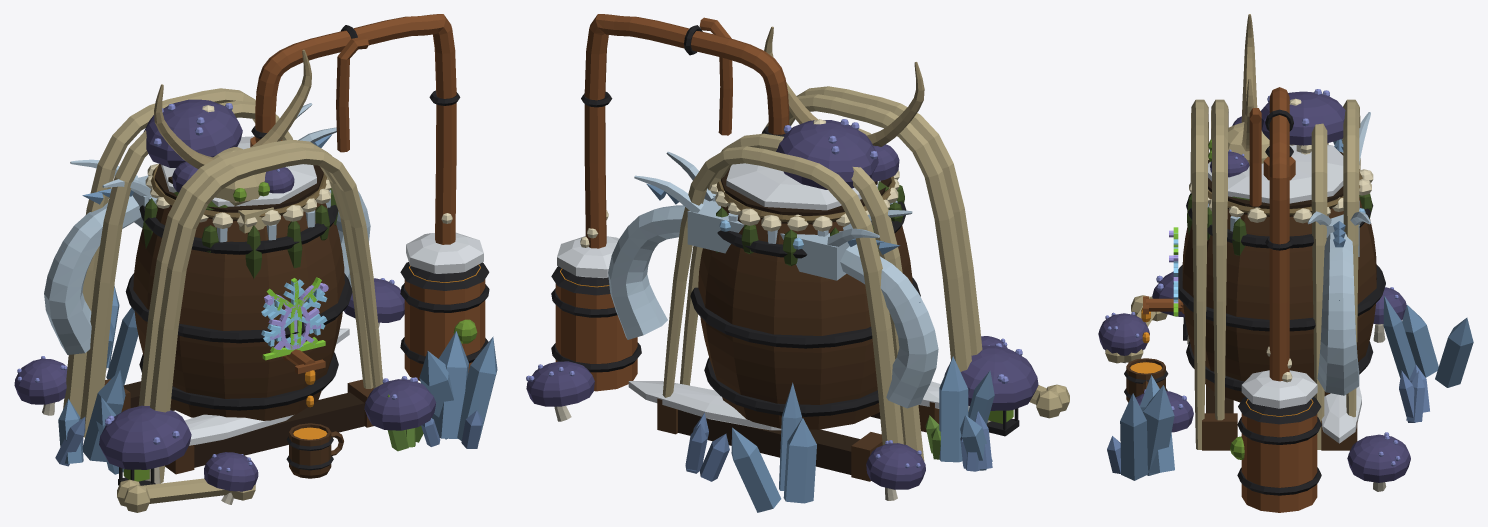
File: VFP_FermentBarrel.obj
The picture shows the model from 3 angles, left to right: view 1: azimuth 30°, elevation 25°; view 2: azimuth 150°, elevation 25°; view 3: azimuth 270°, elevation 25°; orthographic projection. The views are drawn at different scales.
Parts seen in each view (by area): view 1: S2_Bones, B_Barrel, S3_Caps, B_Pipes, S4_Crystals, S4_Dragons, B_Hoops, S4_Frost, B_Tank, B_Cradle, B_Tank_iron, S2_Skull_antler (+15 smaller); view 2: S2_Bones, B_Barrel, S4_Dragons, S3_Caps, B_Pipes, S4_Crystals, S4_Frost, B_Hoops, B_Tank, B_Cradle, S3_Crystals, B_Tank_iron (+7 smaller); view 3: S2_Bones, B_Barrel, S3_Caps, S4_Crystals, B_Pipes, S4_Frost, S4_Dragons, B_Tank, B_Hoops, B_Tank_iron, B_Cradle_wood, S3_Crystals (+11 smaller).
Part boxes in pixels (x1,y1,x2,y2): S2_Bones: (63, 88, 382, 512); B_Barrel: (133, 203, 344, 420); S3_Caps: (14, 99, 435, 491); B_Pipes: (250, 14, 456, 244); S4_Crystals: (58, 285, 497, 474); S4_Dragons: (44, 103, 370, 354); B_Hoops: (125, 205, 352, 410); S4_Frost: (161, 136, 483, 445); B_Tank: (404, 279, 485, 380); B_Cradle: (123, 381, 364, 467); B_Tank_iron: (400, 262, 489, 363); S2_Skull_antler: (154, 49, 311, 168); S2_Bones: (662, 86, 1069, 461); B_Barrel: (698, 206, 912, 429); S4_Dragons: (608, 151, 938, 408); S3_Caps: (526, 120, 1038, 489); B_Pipes: (584, 14, 789, 248); S4_Crystals: (731, 356, 994, 512); S4_Frost: (557, 163, 969, 430); B_Hoops: (690, 202, 920, 416); B_Tank: (555, 284, 637, 391); B_Cradle: (678, 409, 880, 474); S3_Crystals: (685, 411, 992, 481); B_Tank_iron: (551, 266, 641, 372); S2_Bones: (1105, 99, 1360, 449); B_Barrel: (1182, 197, 1376, 402); S3_Caps: (1098, 91, 1410, 482); S4_Crystals: (1120, 295, 1473, 480); B_Pipes: (1249, 87, 1295, 381); S4_Frost: (1208, 144, 1361, 443); S4_Dragons: (1307, 112, 1370, 395); B_Tank: (1241, 413, 1317, 512); B_Hoops: (1173, 193, 1385, 391); B_Tank_iron: (1237, 397, 1321, 495); B_Cradle_wood: (1202, 413, 1357, 450); S3_Crystals: (1107, 365, 1429, 473).
Size of the model in its own units: 2.35 by 1.94 by 1.88.
